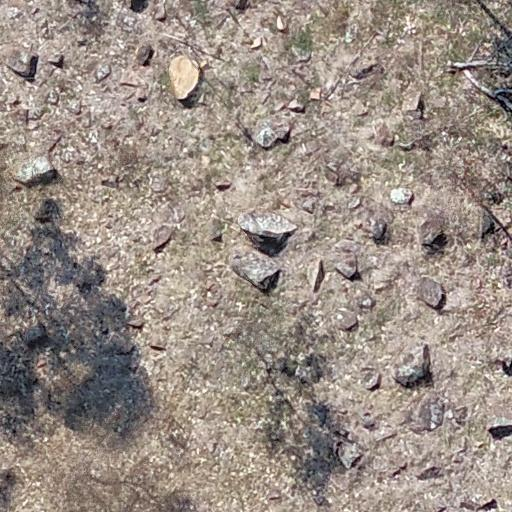stone: (228, 247, 282, 293), (392, 342, 434, 388), (14, 155, 58, 188), (406, 398, 446, 432), (418, 216, 450, 254), (332, 242, 362, 280), (333, 438, 363, 470), (419, 274, 447, 308), (253, 119, 283, 148), (100, 330, 132, 356), (368, 264, 399, 290), (437, 288, 465, 314), (294, 360, 321, 384), (306, 257, 324, 293), (23, 323, 50, 347), (371, 120, 394, 148), (131, 40, 154, 68), (334, 308, 360, 332), (370, 214, 390, 245), (152, 224, 174, 252), (486, 417, 512, 439), (118, 67, 144, 88), (220, 316, 244, 338), (479, 208, 497, 237), (372, 424, 397, 444), (390, 186, 414, 206), (404, 90, 424, 114), (148, 170, 168, 194), (363, 371, 384, 393), (427, 90, 448, 112), (299, 139, 324, 157), (284, 94, 306, 114), (298, 194, 320, 214), (449, 404, 469, 426), (160, 303, 181, 323), (24, 106, 44, 125), (355, 294, 377, 311), (290, 45, 312, 62), (94, 62, 112, 82), (357, 407, 377, 425), (324, 168, 344, 186), (192, 400, 210, 420), (210, 218, 226, 240), (194, 330, 216, 346), (170, 204, 186, 225), (352, 100, 370, 118), (64, 98, 83, 115), (47, 54, 65, 69), (153, 2, 167, 21), (204, 438, 220, 454), (126, 317, 145, 330), (346, 195, 362, 210), (320, 101, 335, 116), (46, 90, 60, 106), (136, 86, 149, 103), (213, 179, 231, 191), (248, 36, 263, 50), (452, 449, 466, 464), (205, 294, 220, 308), (272, 18, 289, 30), (308, 88, 322, 101), (268, 491, 282, 501)
